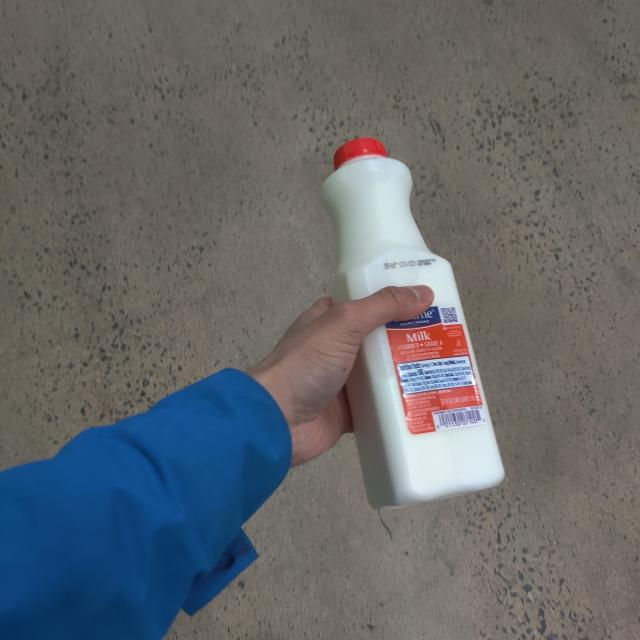milk: (310, 130, 522, 524)
